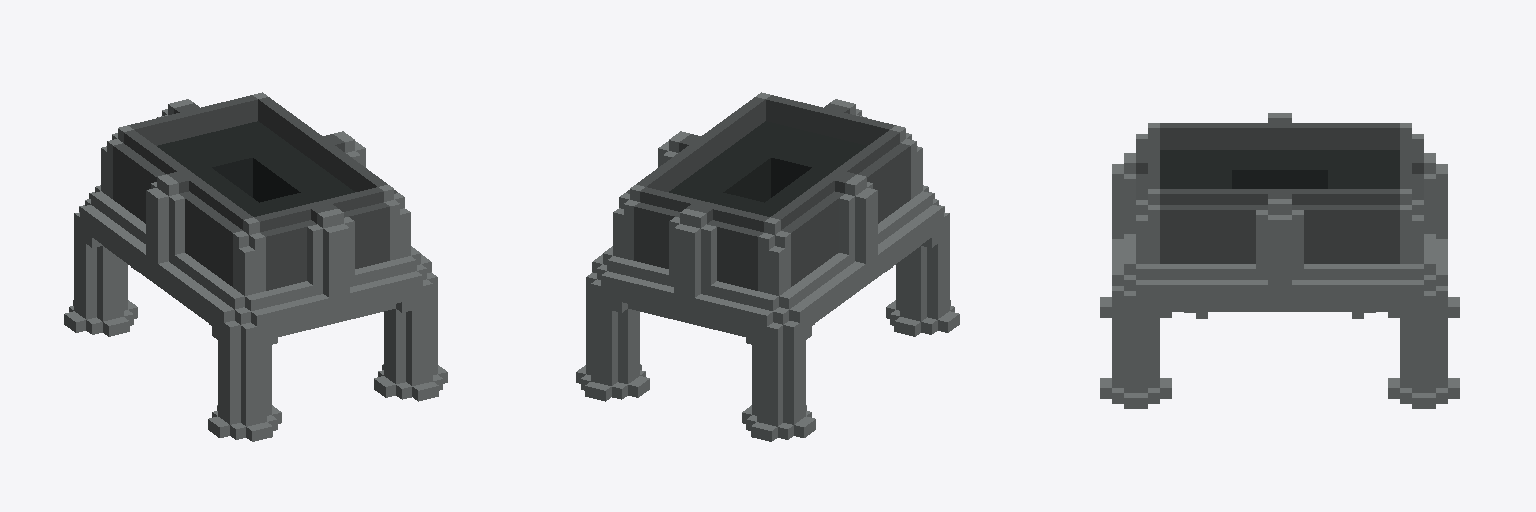
The picture shows the model from 3 angles: view 1: azimuth 30°, elevation 25°; view 2: azimuth 150°, elevation 25°; view 3: azimuth 270°, elevation 25°; orthographic projection.
Parts seen in each view (by area): view 1: Model; view 2: Model; view 3: Model.
Boxes of the visible parts, box(x1,y1,x2,y2) form: Model: box(64, 92, 447, 441); Model: box(576, 92, 959, 441); Model: box(1100, 113, 1459, 408).
Bounding box in the file's own units: 11 × 9 × 15.
1 materials, 1 textured.